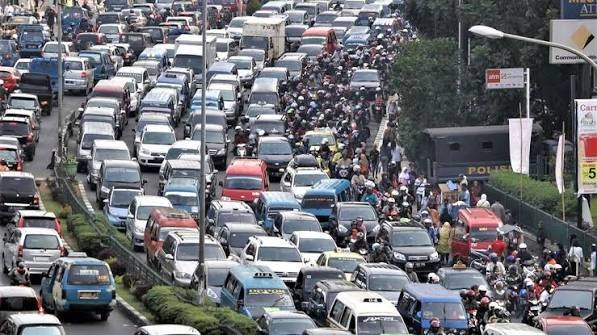car: (2, 15, 583, 335), (44, 257, 117, 322), (202, 261, 286, 314), (215, 269, 290, 327), (172, 243, 243, 303), (228, 244, 301, 298), (190, 251, 259, 307), (165, 236, 232, 292), (346, 285, 425, 332), (400, 285, 471, 334), (324, 289, 404, 332), (313, 282, 389, 327), (295, 270, 360, 319), (534, 285, 596, 333), (347, 274, 413, 319), (535, 285, 596, 332), (242, 237, 309, 279), (384, 225, 440, 273), (15, 230, 67, 281), (145, 207, 200, 255), (237, 297, 311, 332), (219, 164, 268, 215), (148, 227, 191, 282), (233, 232, 299, 266), (333, 306, 410, 334), (299, 267, 362, 301), (1, 286, 48, 331), (205, 262, 250, 309), (215, 218, 266, 259), (298, 178, 344, 222), (89, 144, 135, 188), (255, 133, 295, 183), (416, 295, 466, 334), (161, 169, 205, 213), (221, 157, 265, 201), (333, 203, 376, 247), (137, 86, 179, 131), (1, 171, 42, 217), (103, 190, 143, 237), (533, 306, 597, 335), (134, 127, 177, 170), (1, 306, 64, 335), (257, 135, 294, 184), (316, 290, 359, 332), (264, 196, 308, 237), (1, 170, 41, 214), (459, 211, 506, 248), (18, 58, 60, 99), (163, 146, 202, 189), (464, 228, 511, 263), (395, 290, 432, 333), (357, 267, 410, 297), (257, 309, 318, 335), (344, 313, 412, 335), (51, 58, 90, 96), (136, 138, 173, 178), (457, 207, 505, 236), (290, 232, 335, 262), (438, 269, 489, 295), (1, 127, 27, 168)
